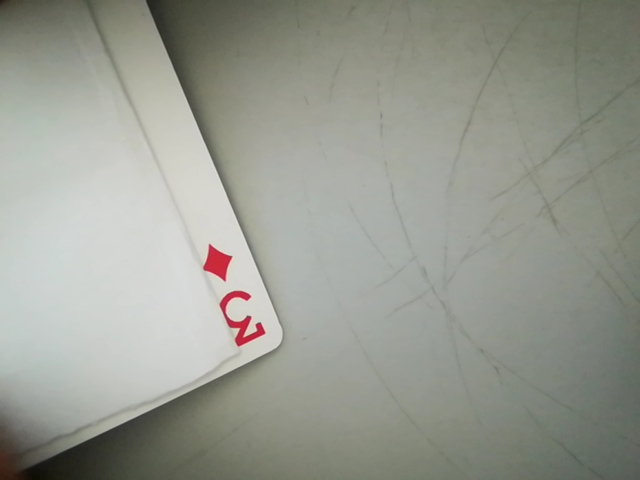fk 3: (195, 237, 278, 356)
